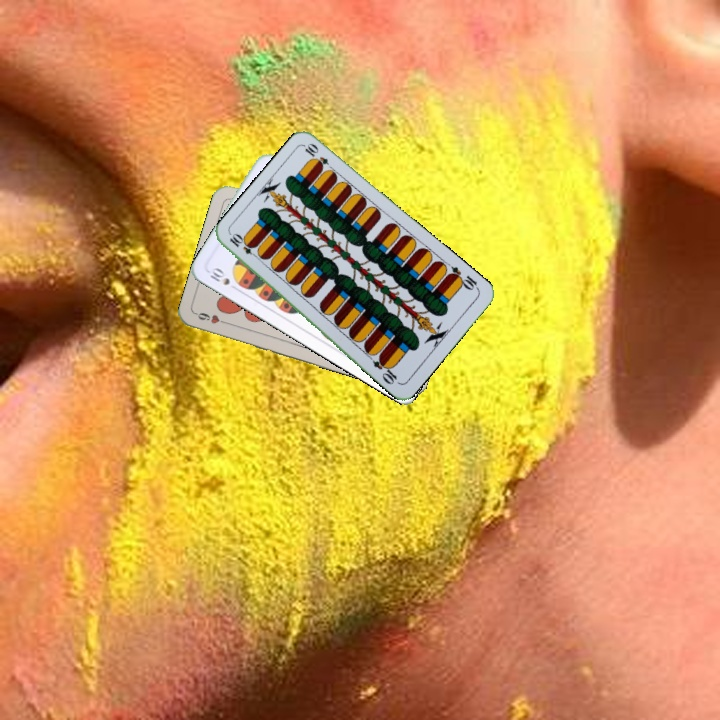E10: (225, 230, 262, 261), (444, 262, 481, 293)
H9: (192, 308, 232, 327)
S10: (204, 263, 241, 293)
